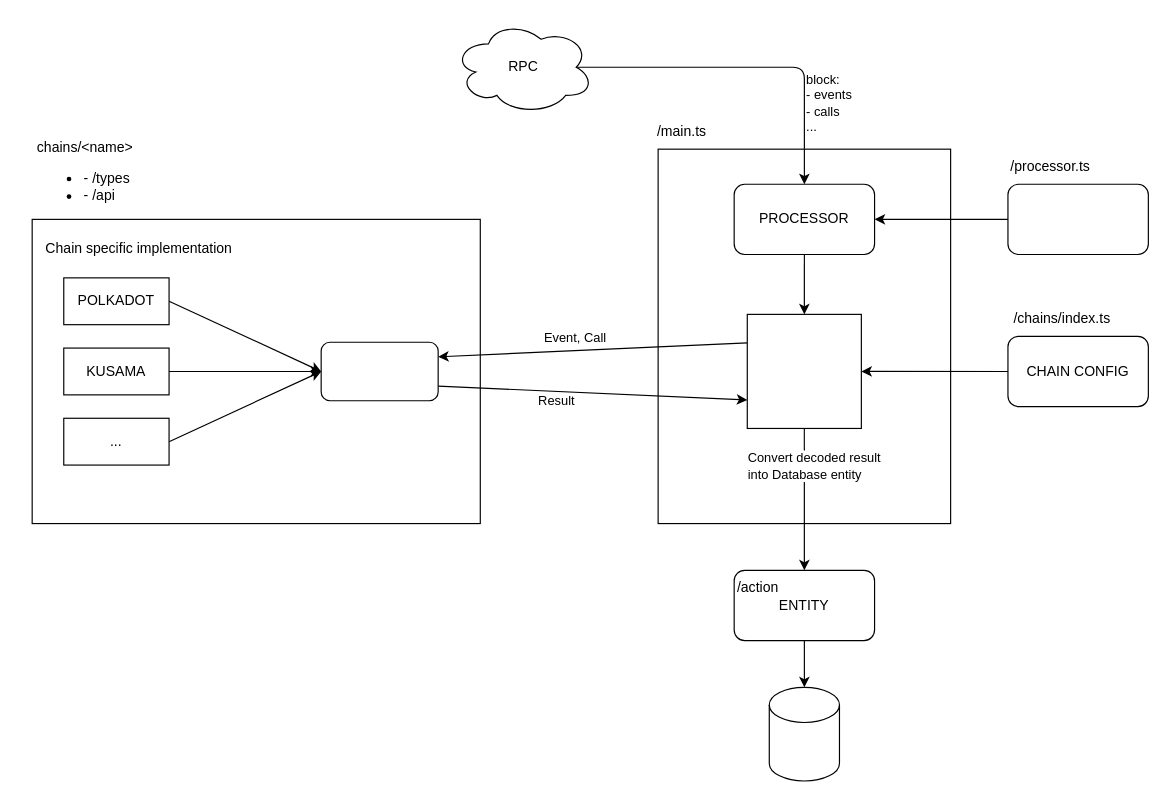
Some shapes in this 1169 by 801 pixel diagram are drawn without their labels. Each missing label, with the centre of its shape:
CHAIN INDEXER: the point at 803,370
DB: the point at 803,733
DECODER: the point at 379,371
PROCESSOR CONFIG: the point at 1077,218
